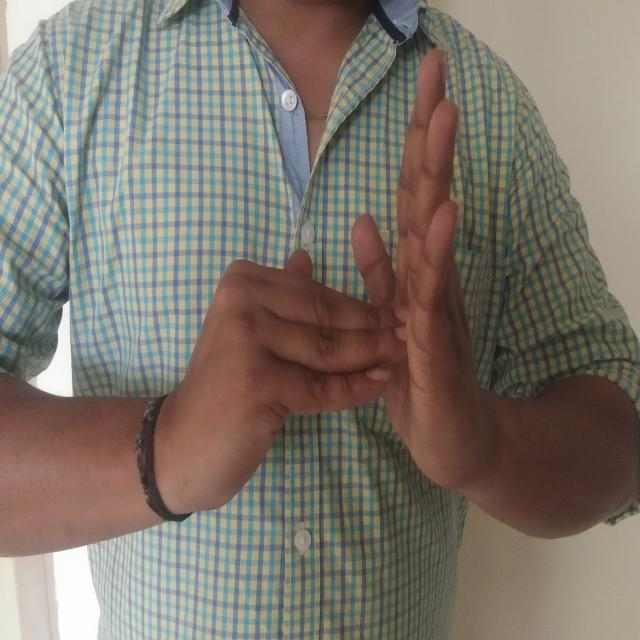Z: (137, 38, 511, 552)
